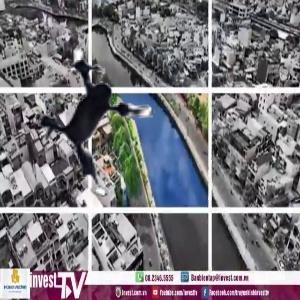drone: (15, 31, 192, 208)
